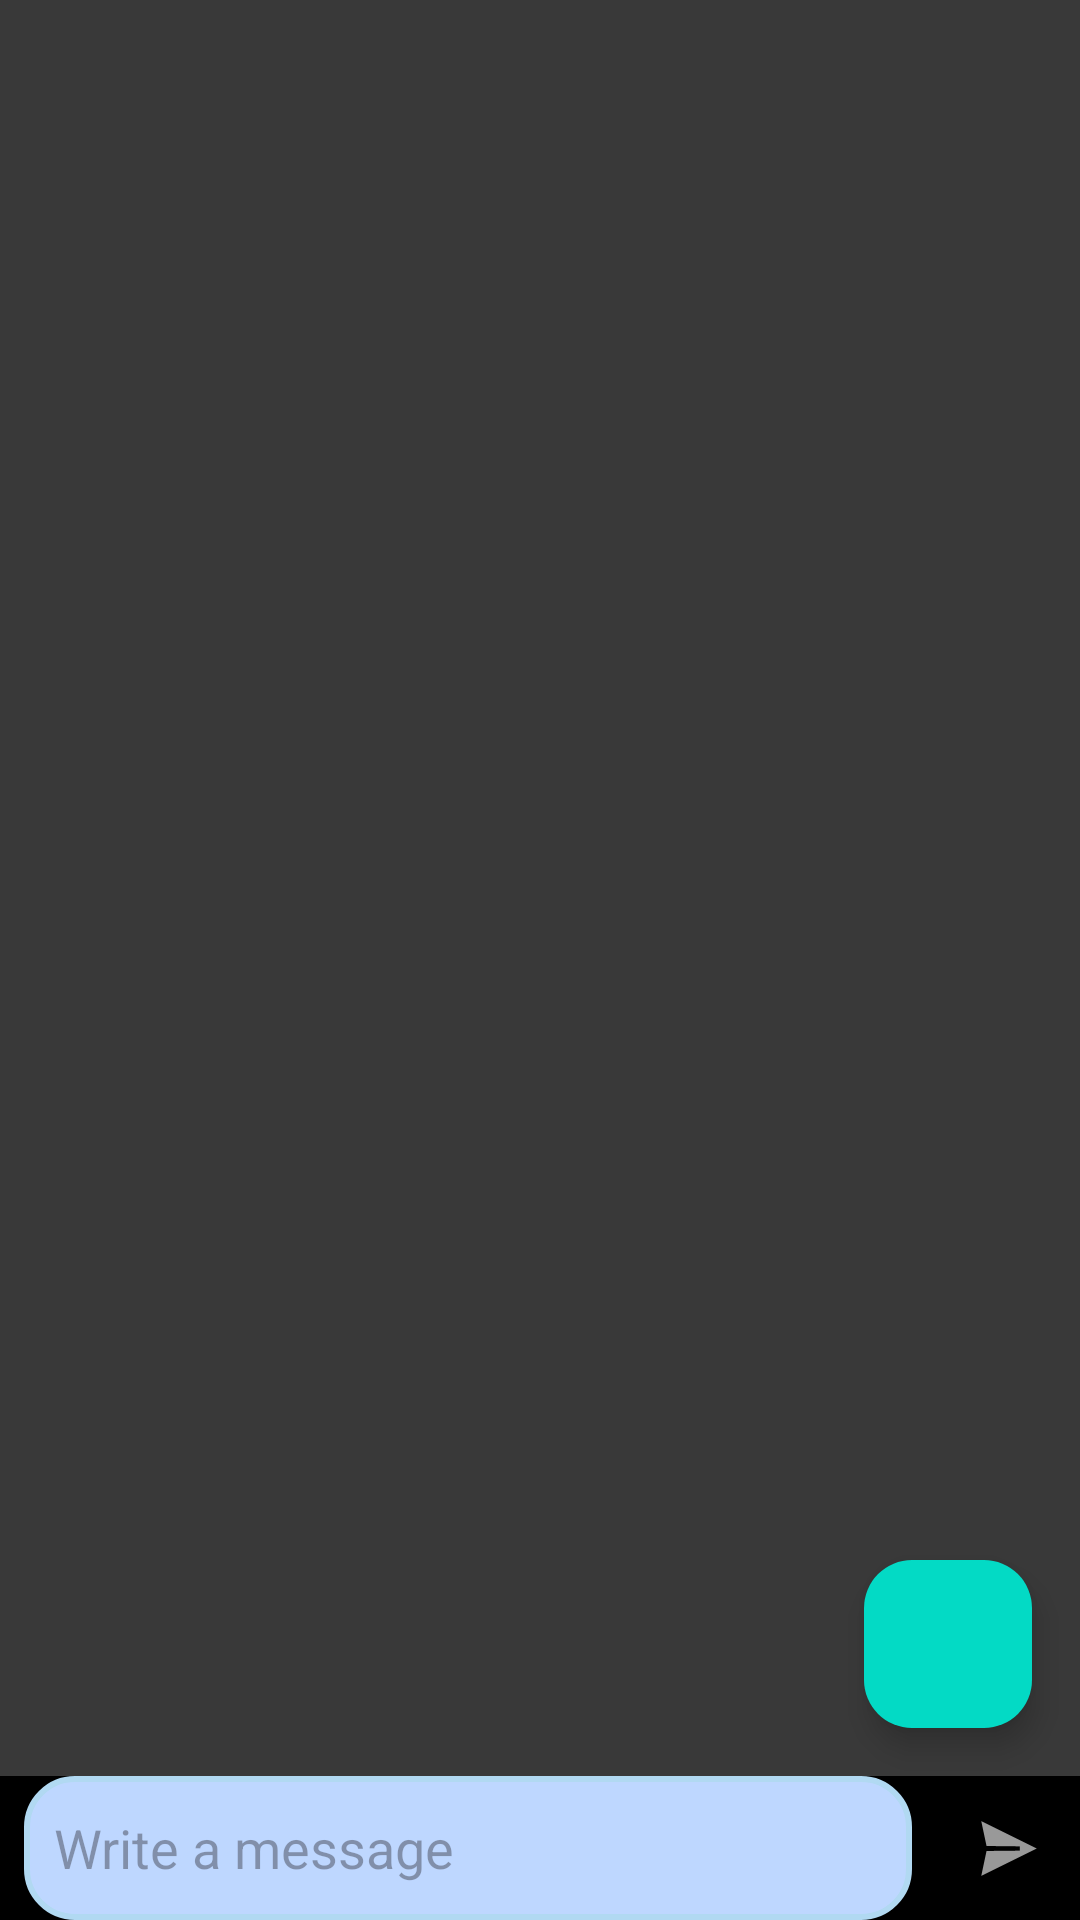

Named icons in this screenshot (1080 x 1920) and their centers, (x,y):
отправить: (1009,1848)
